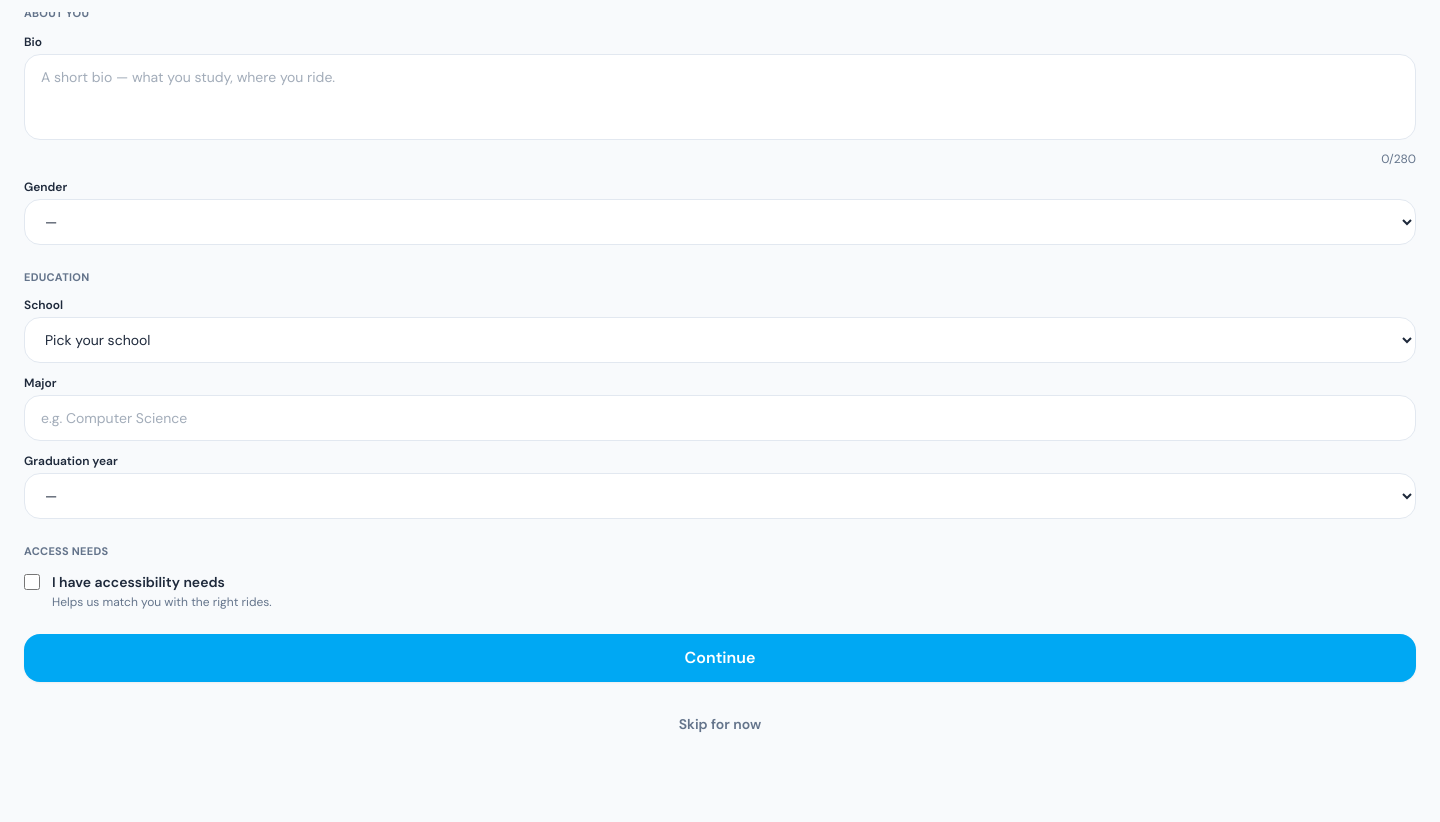
AboutYouPage › shows "We'll set up your caregiver next." hint when wheelchair + caregiver are on
(page scrolled)
Click the checkbox with test id "about-you-has-access": point(32, 582) [24, 574, 40, 590]
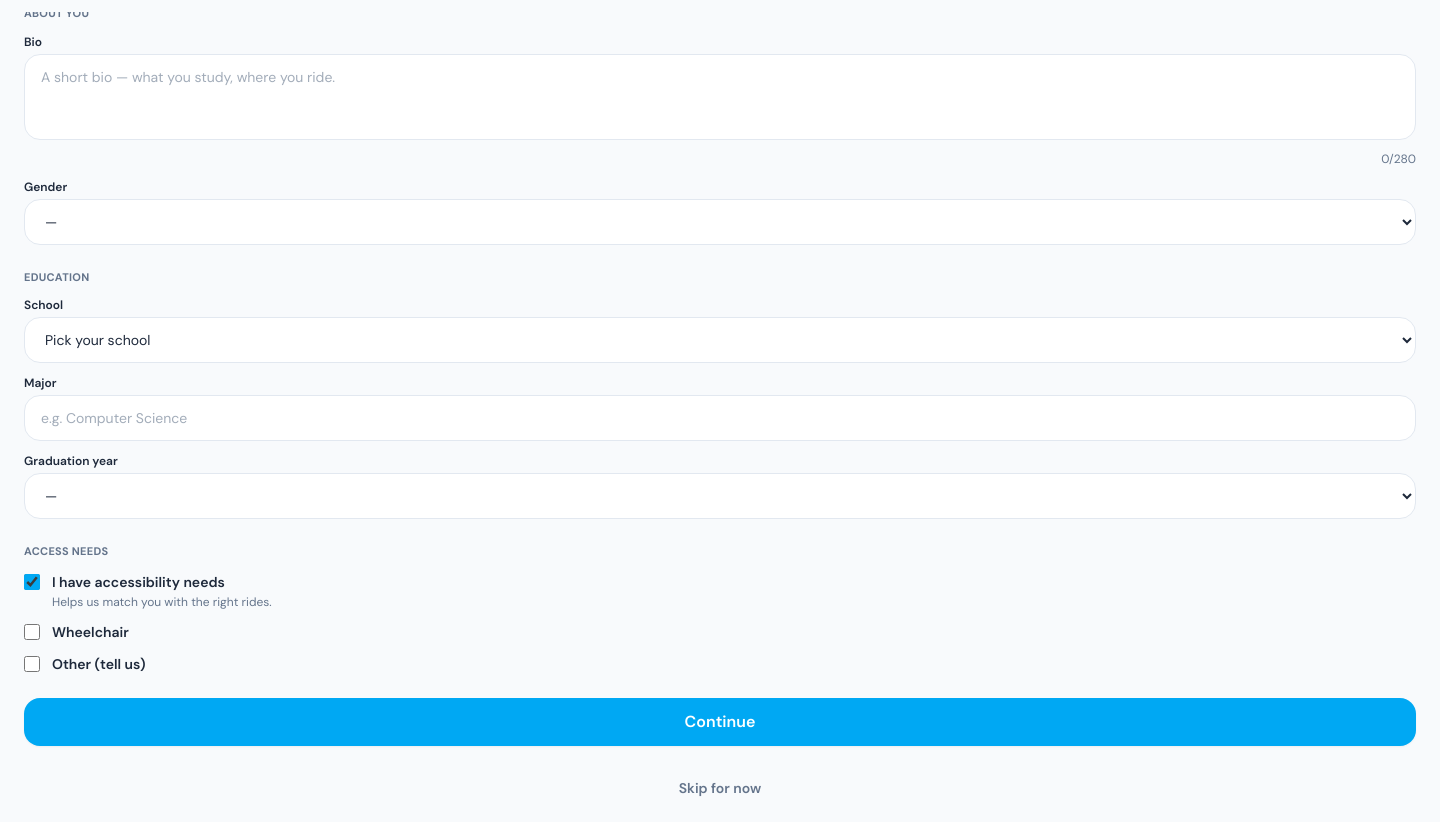
Click the checkbox with test id "about-you-needs-wheelchair": point(32, 632) [24, 624, 40, 640]
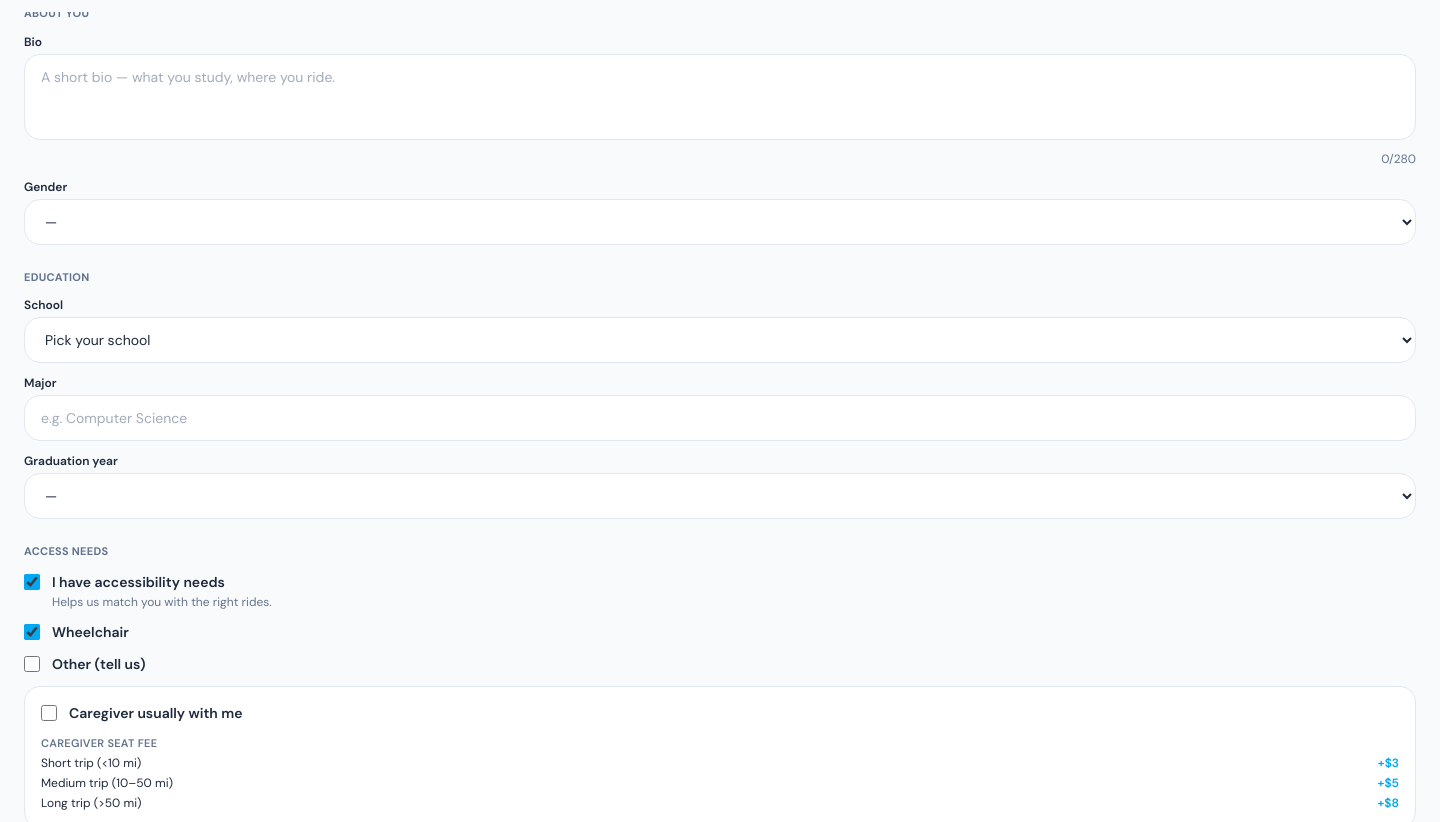
Click the checkbox with test id "about-you-needs-caregiver": point(49, 712) [41, 704, 57, 720]
(page scrolled)
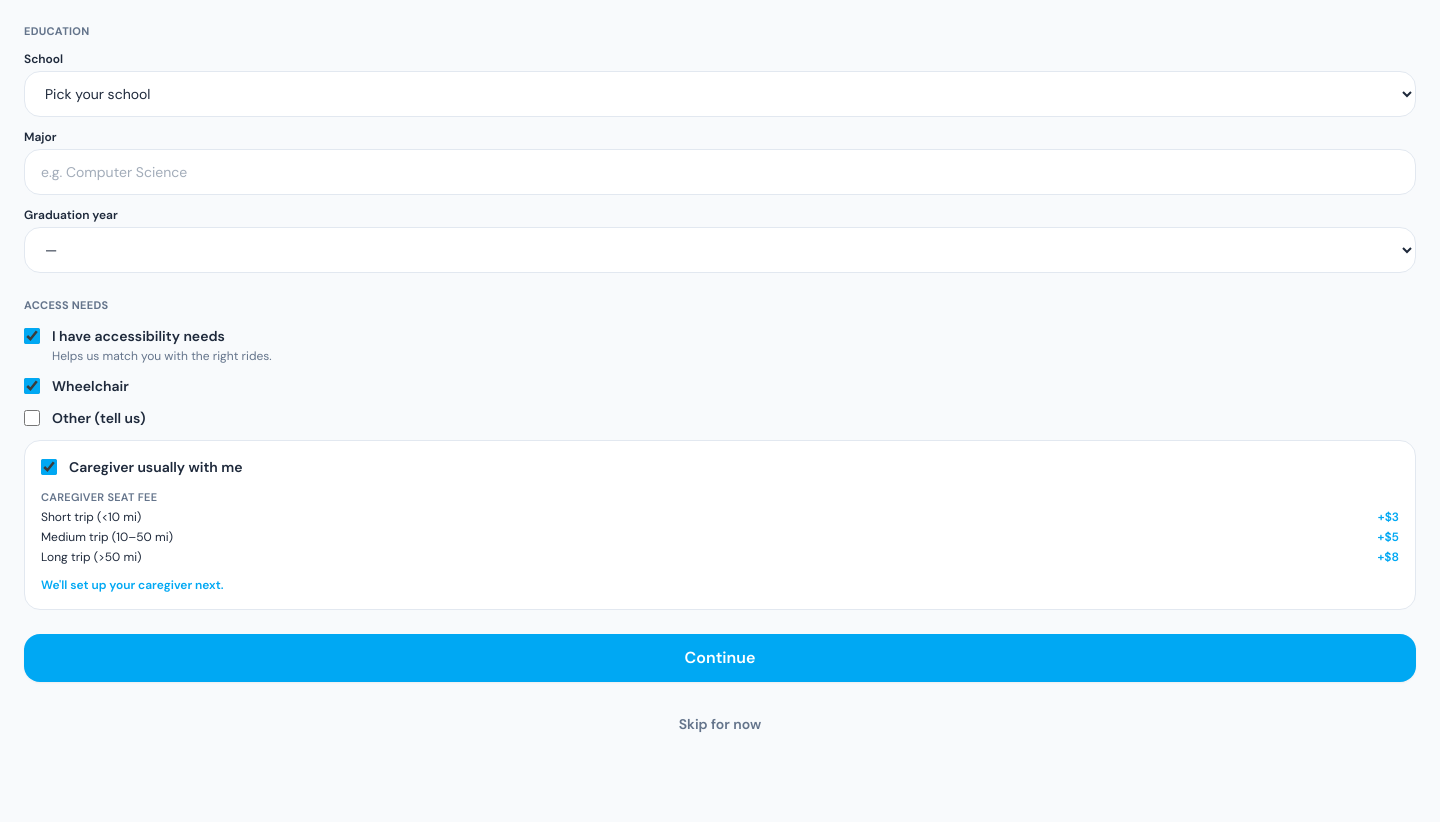
expect the text "We'll set up your caregiver next." is shown: met, box [41, 577, 224, 593]
